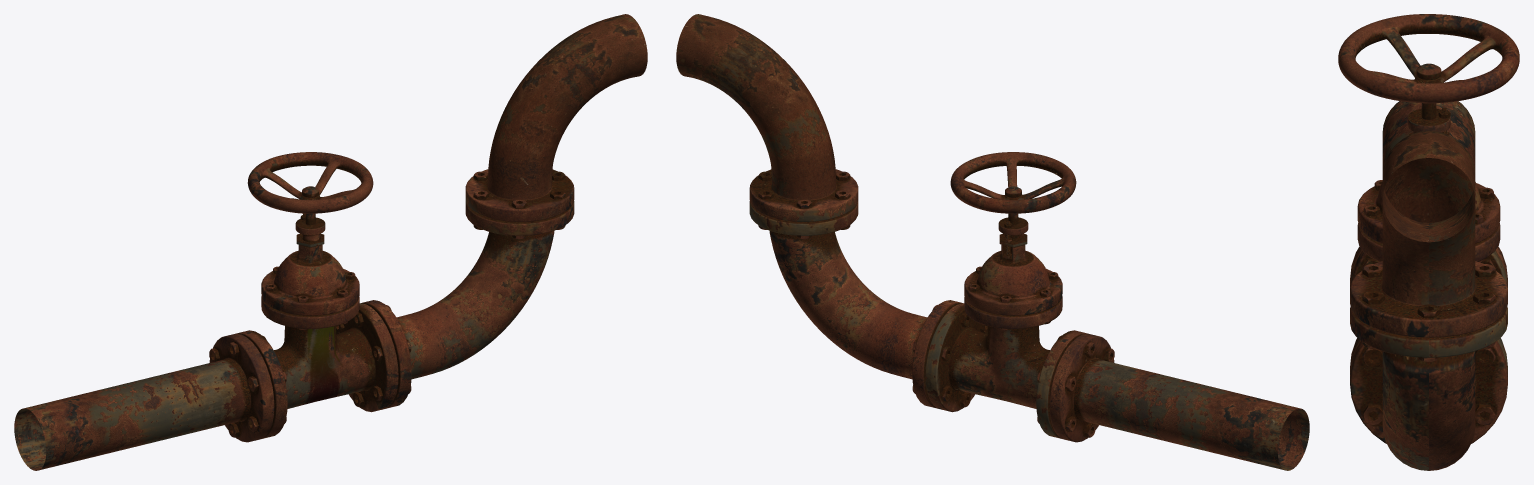
Rendered from rusty_pipe_segment.glb.
3 renders of one model, left to right at view 1: azimuth 30°, elevation 25°; view 2: azimuth 150°, elevation 25°; view 3: azimuth 270°, elevation 25°, orthographic. The views are drawn at different scales.
Parts seen in each view (by area): view 1: PIPE_low; view 2: PIPE_low; view 3: PIPE_low.
Boxes of the visible parts, x1,y1,x2,y2 form: PIPE_low: (14, 14, 647, 470); PIPE_low: (676, 14, 1309, 470); PIPE_low: (1338, 14, 1519, 470).
Bounding box in the file's own units: 5.73 × 2.96 × 1.03.
Materials: 1 (1 with a texture image).
